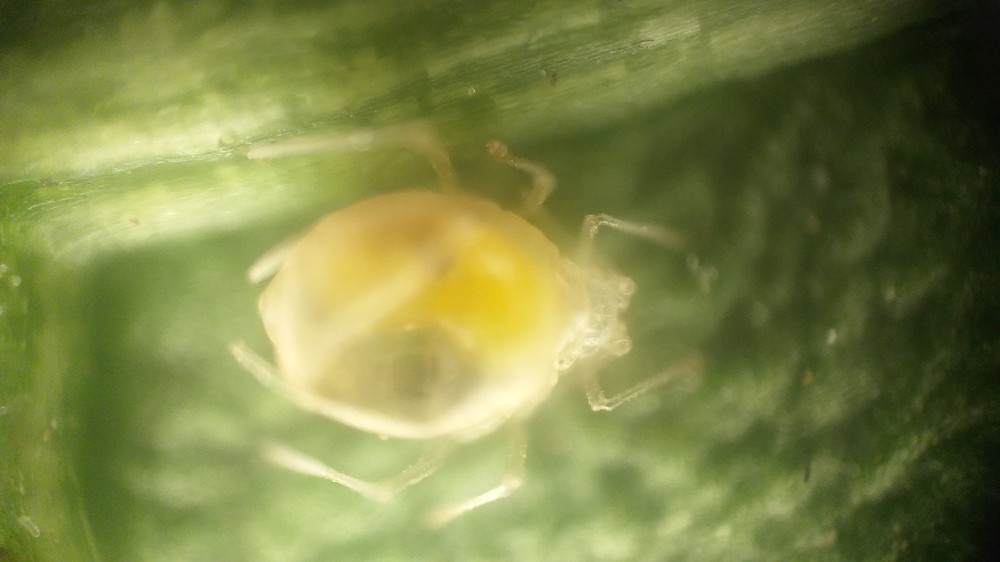Pulgon: (206, 115, 718, 538)
